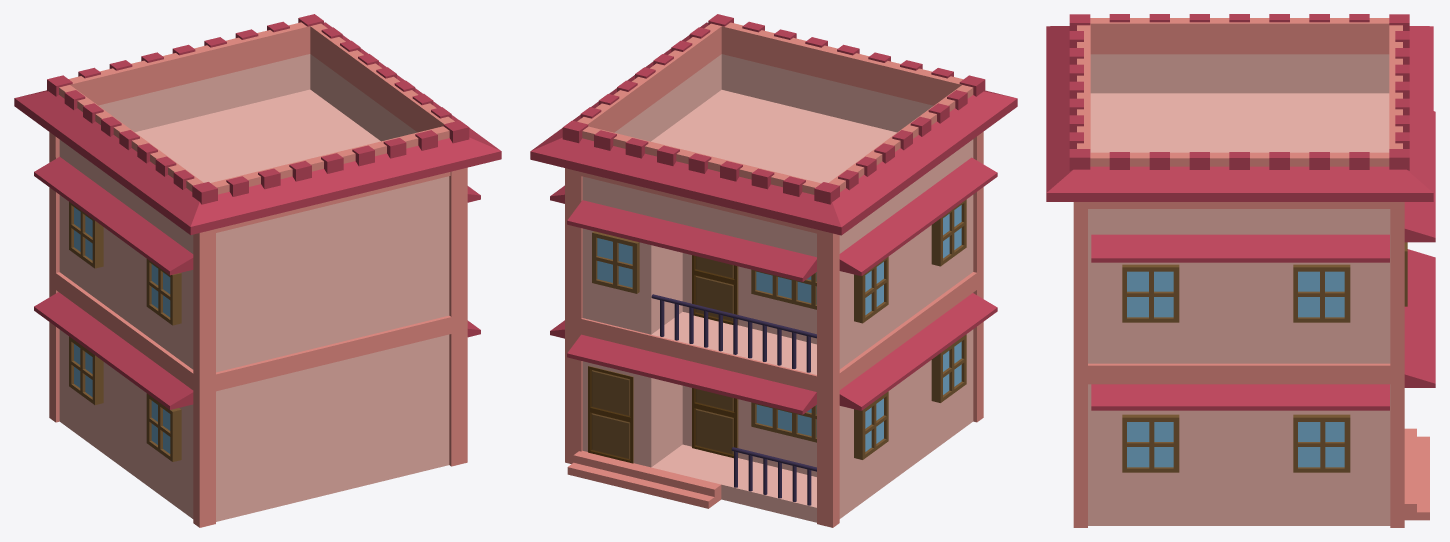
Rendered from Pink Building Full.fbx.
3 renders of one model, left to right at view 1: azimuth 30°, elevation 25°; view 2: azimuth 150°, elevation 25°; view 3: azimuth 270°, elevation 25°, orthographic. The views are drawn at different scales.
Visible parts, largest first — view 1: Cube.064, Cube.066, Cube.070; view 2: Cube.064, Cube.066, Cube.070; view 3: Cube.064, Cube.070, Cube.066.
Part boxes in pixels (left/top/right/bottom): Cube.064: left=14, top=14, right=501, bottom=262; Cube.066: left=34, top=153, right=480, bottom=395; Cube.070: left=34, top=285, right=480, bottom=527; Cube.064: left=530, top=14, right=1017, bottom=262; Cube.066: left=550, top=152, right=997, bottom=394; Cube.070: left=550, top=285, right=997, bottom=527; Cube.064: left=1046, top=14, right=1433, bottom=236; Cube.070: left=1073, top=249, right=1435, bottom=527; Cube.066: left=1073, top=111, right=1435, bottom=384.
Bounding box in the file's own units: 958 × 990 × 943.
